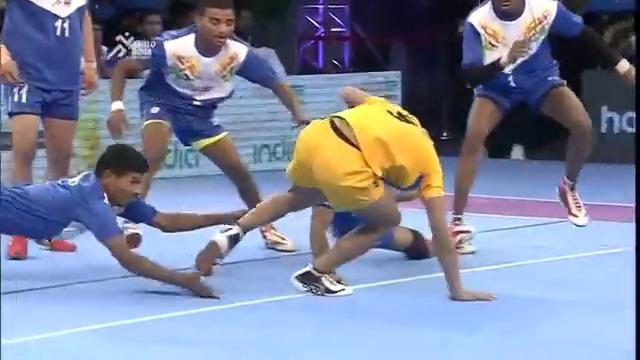Player: (104, 0, 313, 255), (446, 0, 635, 255), (1, 141, 248, 299), (0, 0, 99, 258)
Raider: (194, 84, 498, 302)
referee: (348, 0, 471, 140)
